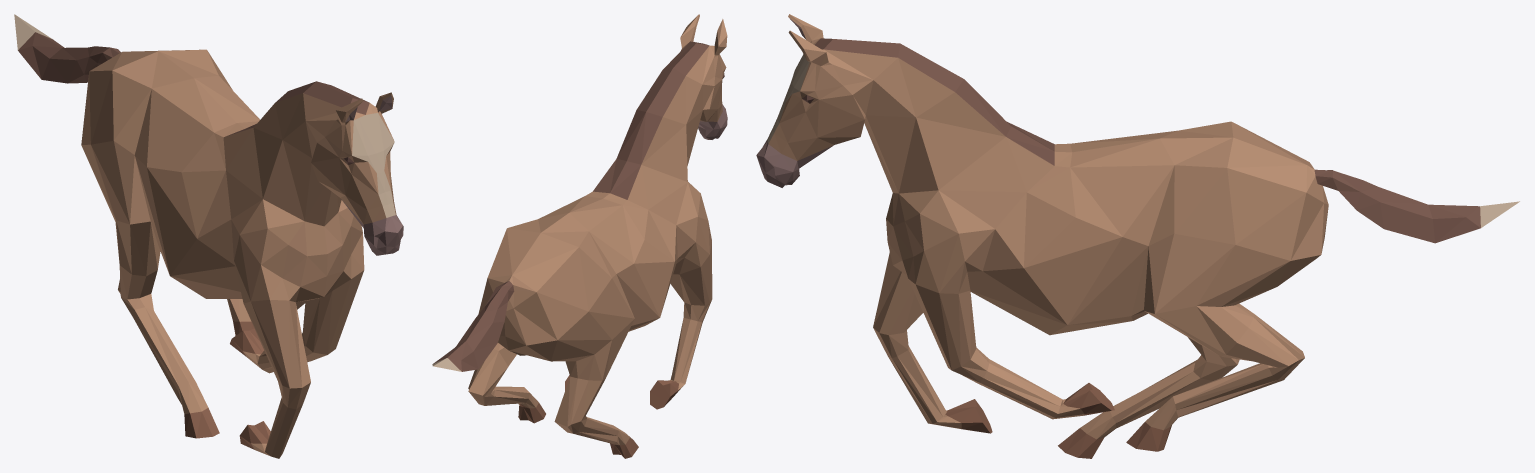
Rendered from horse.gltf.
3 renders of one model, left to right at view 1: azimuth 30°, elevation 25°; view 2: azimuth 150°, elevation 25°; view 3: azimuth 270°, elevation 25°, orthographic. The views are drawn at different scales.
Parts seen in each view (by area): view 1: mesh_0; view 2: mesh_0; view 3: mesh_0.
Boxes of the visible parts, bbox=[...] form: mesh_0: bbox=[14, 14, 403, 458]; mesh_0: bbox=[432, 14, 727, 458]; mesh_0: bbox=[756, 14, 1519, 458].
Bounding box in the file's own units: 66 × 180 × 277.
